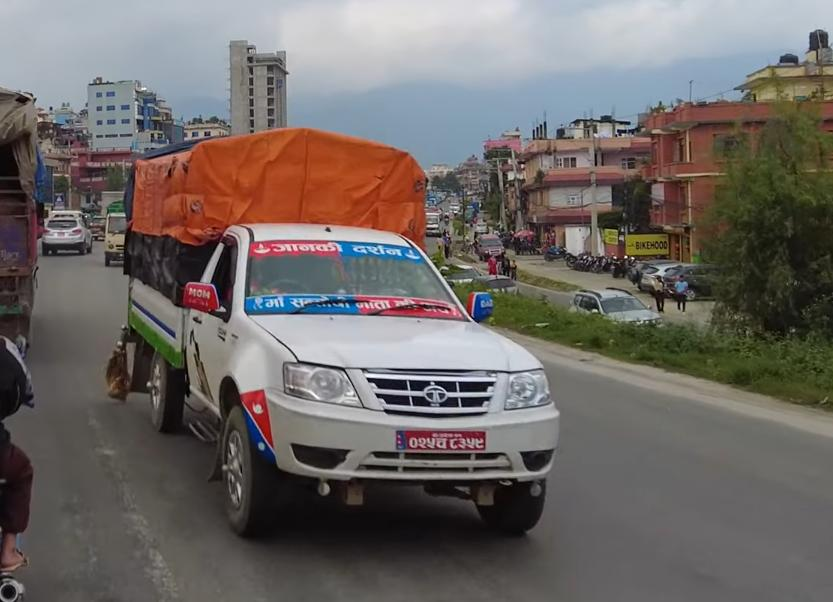car: (563, 278, 672, 340), (40, 196, 94, 262), (471, 225, 510, 265)
transport_vehicle: (113, 128, 567, 551)
truck: (0, 80, 45, 354)
